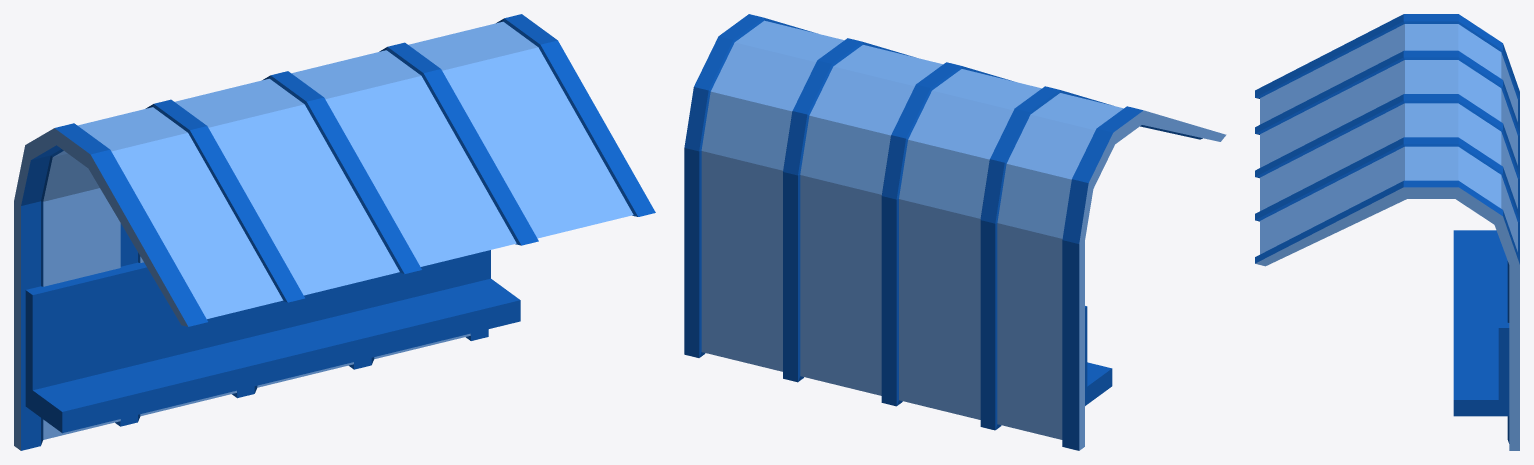
The model's file is Bus Stop.glb.
3 renders of one model, left to right at view 1: azimuth 30°, elevation 25°; view 2: azimuth 150°, elevation 25°; view 3: azimuth 270°, elevation 25°, orthographic. The views are drawn at different scales.
Visible parts, largest first — view 1: BusStop_Cylinder.023; view 2: BusStop_Cylinder.023; view 3: BusStop_Cylinder.023.
Boxes of the visible parts, x1=… form: BusStop_Cylinder.023: x1=14, y1=14, x2=655, y2=450; BusStop_Cylinder.023: x1=684, y1=14, x2=1226, y2=450; BusStop_Cylinder.023: x1=1255, y1=14, x2=1519, y2=450.
Bounding box in the file's own units: 38.31 × 27.2 × 24.76.
